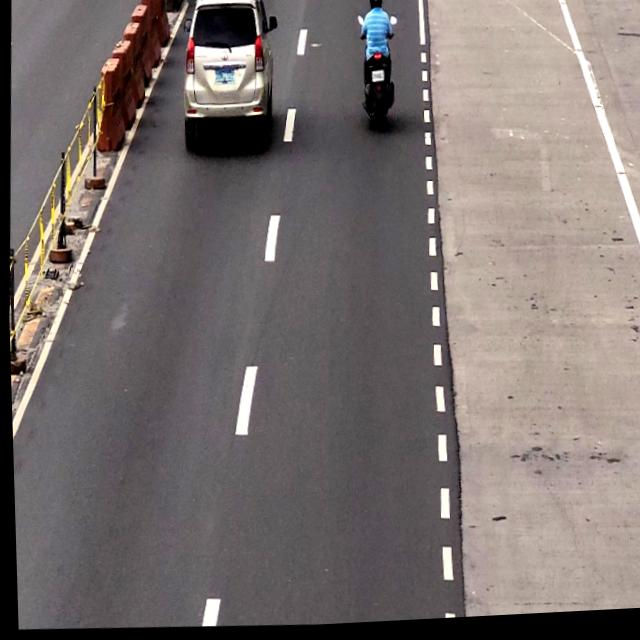Car: (177, 0, 277, 157)
License-Plate: (213, 68, 234, 86), (368, 71, 386, 87)
Motorcycle: (352, 0, 398, 134)
